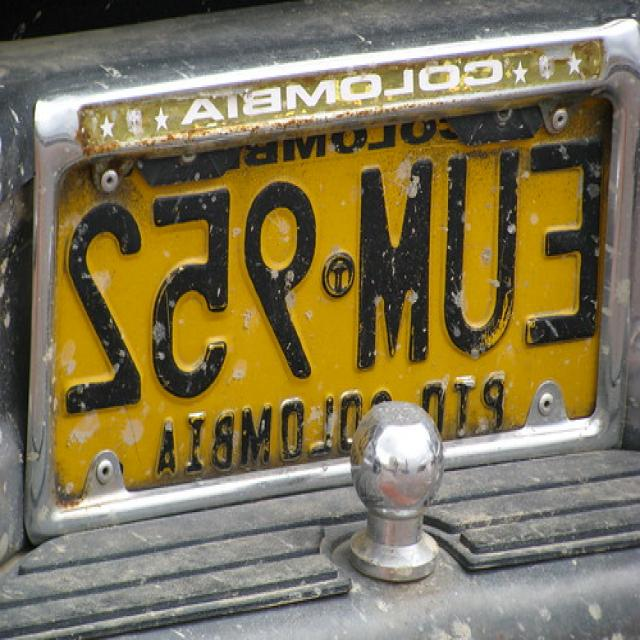placas: (52, 115, 604, 429)
